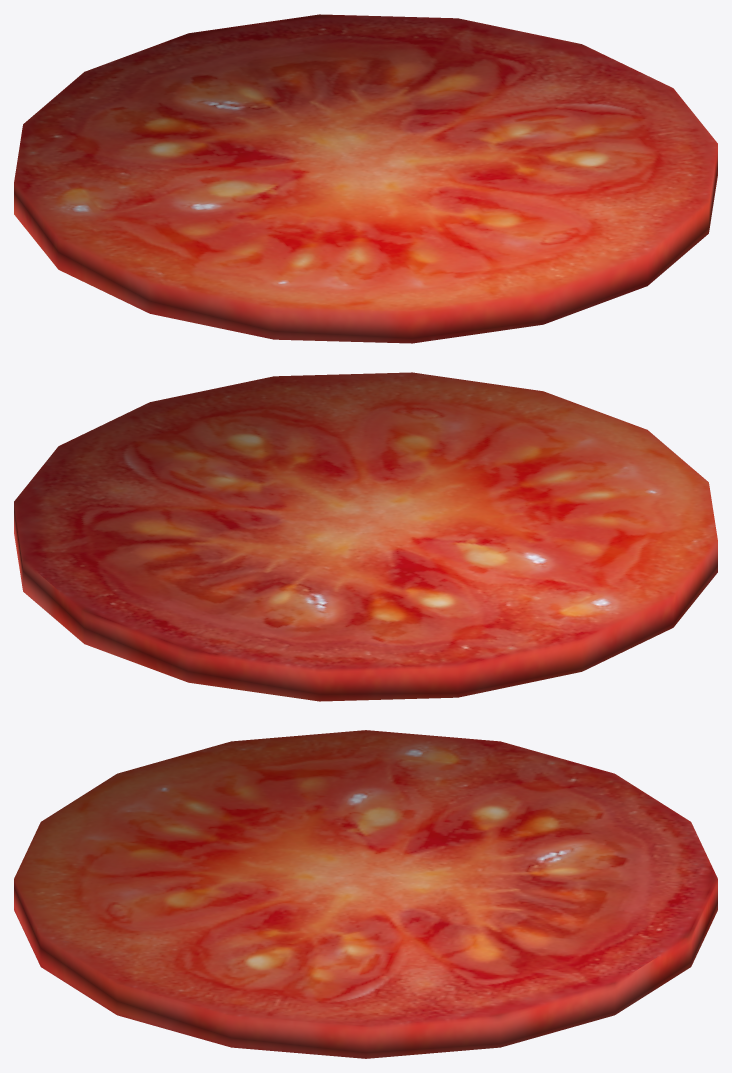
File: tomato_slice.fbx
3 views of the same model, one above another, from view 1: azimuth 30°, elevation 25°; view 2: azimuth 150°, elevation 25°; view 3: azimuth 270°, elevation 25° (orthographic).
Parts seen in each view (by area): view 1: Tomato; view 2: Tomato; view 3: Tomato.
Part boxes in pixels (x1,y1,x2,y2): Tomato: [14, 14, 717, 343]; Tomato: [14, 372, 717, 701]; Tomato: [14, 730, 717, 1058].
Bounding box in the file's own units: 50.03 × 2.45 × 50.03.
